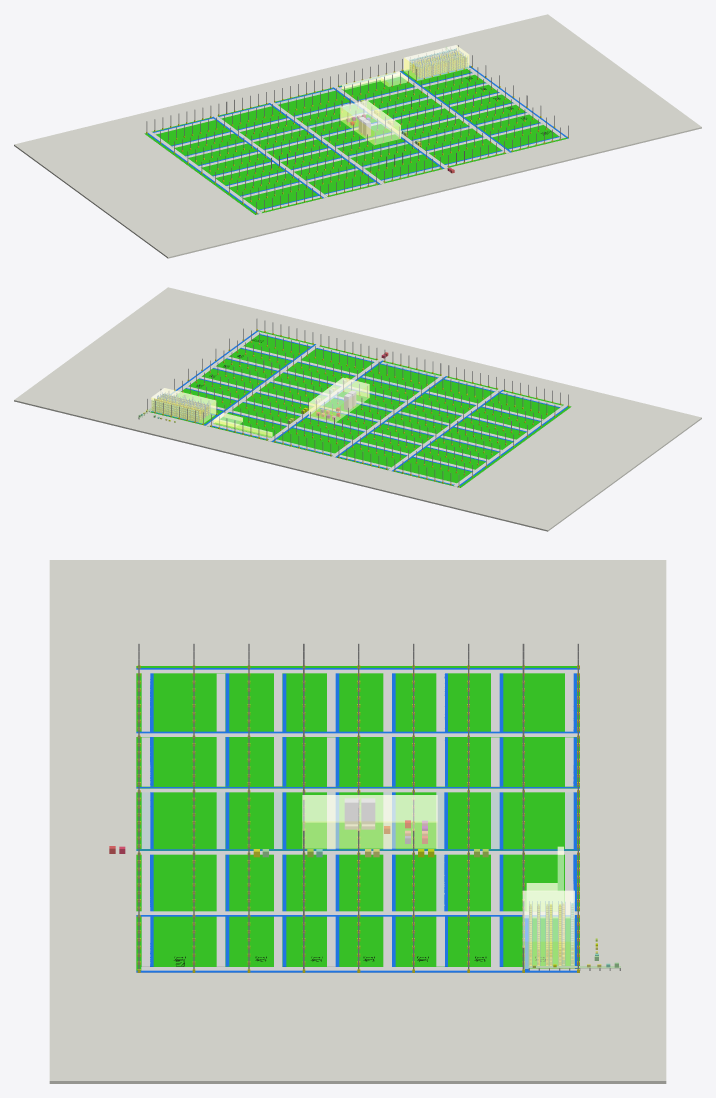
The model's file is factorylogisticanimation.glb.
3 views of the same model, one above another, from view 1: azimuth 30°, elevation 25°; view 2: azimuth 150°, elevation 25°; view 3: azimuth 270°, elevation 25° (orthographic). The views are drawn at different scales.
Parts seen in each view (by area): view 1: 地面, 主厂区地面, 顶部立柱阵列, 主仓库区, 成品立体库40-47, 底部立柱阵列, 通道.002, 通道.004, 通道.003, 通道, 通道.001, 通道.005; view 2: 地面, 主厂区地面, 顶部立柱阵列, 主仓库区, 成品立体库40-47, 底部立柱阵列, 通道.002, 通道.003, 通道.004, 通道, 通道.001; view 3: 地面, 主厂区地面, 主仓库区, 顶部立柱阵列, 成品立体库40-47, 底部立柱阵列, 通道.004, 通道.002, 通道.003, 通道, 通道.005, 通道.001 (+5 smaller).
Boxes of the visible parts, x1,y1,x2,y2 form: 地面: [14, 14, 701, 258]; 主厂区地面: [144, 66, 567, 214]; 顶部立柱阵列: [146, 45, 568, 212]; 主仓库区: [340, 100, 400, 145]; 成品立体库40-47: [404, 45, 469, 80]; 底部立柱阵列: [146, 66, 568, 213]; 通道.002: [270, 102, 383, 183]; 通道.004: [148, 132, 261, 213]; 通道.003: [214, 116, 327, 197]; 通道: [396, 72, 509, 153]; 通道.001: [334, 86, 447, 168]; 通道.005: [467, 68, 565, 138]; 地面: [14, 287, 701, 531]; 主厂区地面: [150, 330, 571, 487]; 顶部立柱阵列: [147, 318, 568, 485]; 主仓库区: [309, 377, 369, 422]; 成品立体库40-47: [151, 388, 216, 423]; 底部立柱阵列: [146, 329, 569, 487]; 通道.002: [332, 375, 445, 457]; 通道.003: [388, 389, 501, 470]; 通道.004: [453, 405, 567, 486]; 通道: [206, 344, 319, 426]; 通道.001: [267, 359, 381, 441]; 地面: [49, 560, 666, 1083]; 主厂区地面: [136, 666, 579, 970]; 主仓库区: [302, 795, 437, 848]; 顶部立柱阵列: [138, 643, 578, 969]; 成品立体库40-47: [522, 890, 574, 968]; 底部立柱阵列: [137, 665, 579, 972]; 通道.004: [136, 669, 579, 673]; 通道.002: [136, 788, 579, 792]; 通道.003: [136, 733, 579, 736]; 通道: [136, 911, 579, 914]; 通道.005: [141, 967, 522, 970]; 通道.001: [136, 851, 579, 854].
Bounding box in the file's own units: 400 × 10.96 × 200.
